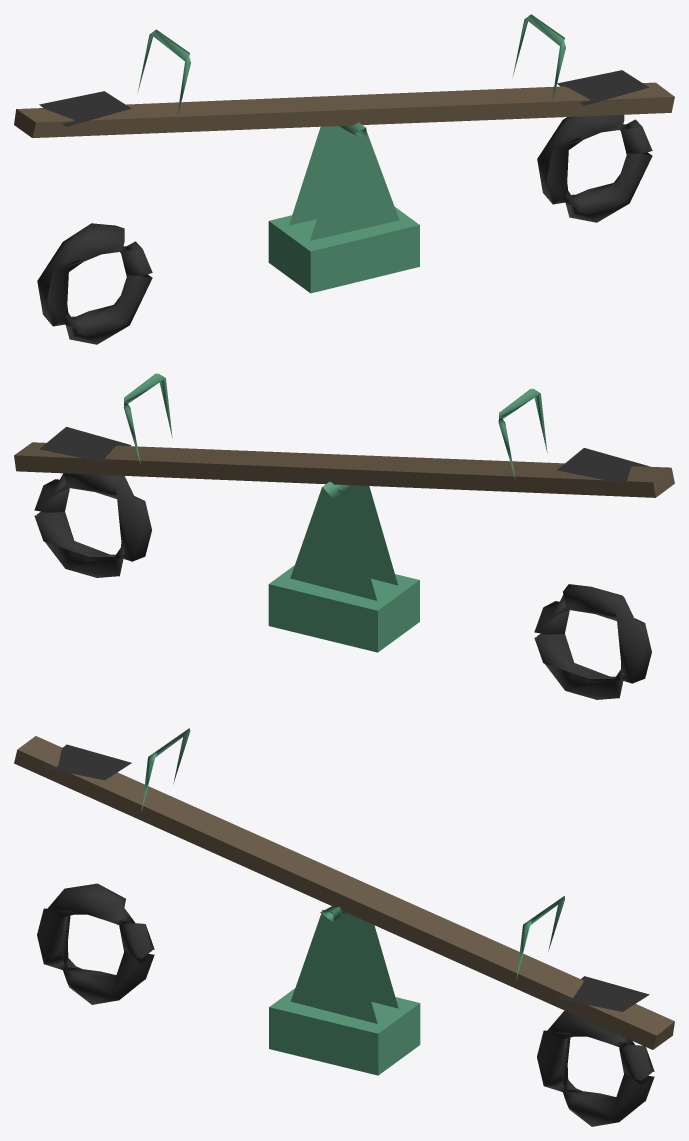
The model's file is seesaw-lod1.glb.
3 views of the same model, one above another, from view 1: azimuth 30°, elevation 25°; view 2: azimuth 150°, elevation 25°; view 3: azimuth 330°, elevation 25° (orthographic).
Visible parts, largest first — view 1: seesaw.001; view 2: seesaw.001; view 3: seesaw.001.
Part boxes in pixels (left/top/right/bottom): seesaw.001: left=14, top=14, right=674, bottom=344; seesaw.001: left=14, top=373, right=674, bottom=699; seesaw.001: left=14, top=728, right=674, bottom=1126.
Bounding box in the file's own units: 3.53 × 1.48 × 0.3999.
